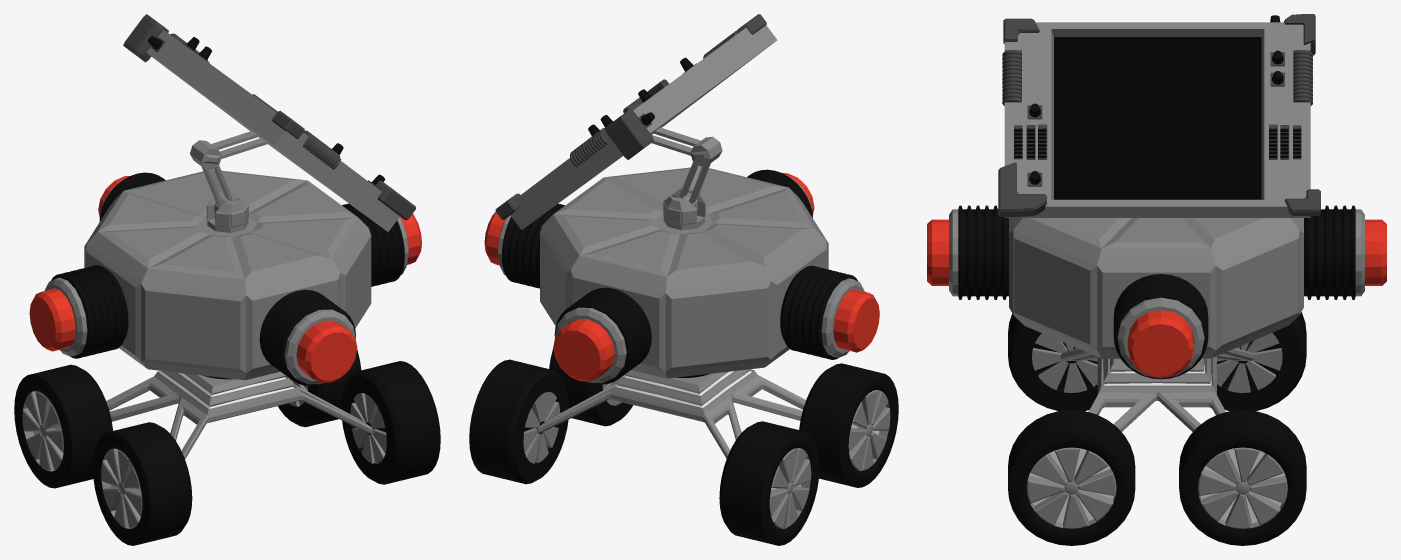
Rendered from Player V1 1.fbx.
3 renders of one model, left to right at view 1: azimuth 30°, elevation 25°; view 2: azimuth 150°, elevation 25°; view 3: azimuth 270°, elevation 25°, orthographic. The views are drawn at different scales.
Parts seen in each view (by area): view 1: Cylinder.007, pantalla unida.001, rueda.004, rueda.002, rueda.005, chasis, base boton.002, base boton.003, boton.003, base boton.001, boton.002, rueda.003 (+5 smaller); view 2: Cylinder.007, pantalla unida.001, rueda.005, rueda.003, rueda.004, chasis, base boton.002, base boton.004, boton.004, base boton.001, boton.002, rueda.002 (+5 smaller); view 3: pantalla unida.001, Cylinder.007, rueda.003, rueda.002, chasis, rueda.005, rueda.004, base boton.004, base boton.003, base boton.001, boton.001, boton.003 (+1 smaller).
Boxes of the visible parts, x1,y1,x2,y2 form: Cylinder.007: [84, 169, 371, 380]; pantalla unida.001: [123, 14, 415, 231]; rueda.004: [92, 422, 192, 545]; rueda.002: [341, 361, 440, 484]; rueda.005: [14, 364, 113, 488]; chasis: [106, 371, 373, 459]; base boton.002: [44, 265, 128, 358]; base boton.003: [259, 289, 355, 385]; boton.003: [296, 320, 357, 382]; base boton.001: [342, 203, 408, 286]; boton.002: [29, 288, 75, 351]; rueda.003: [278, 350, 361, 427]; Cylinder.007: [540, 166, 828, 378]; pantalla unida.001: [495, 14, 777, 229]; rueda.005: [719, 421, 819, 545]; rueda.003: [469, 359, 569, 484]; rueda.004: [799, 363, 898, 487]; chasis: [537, 369, 805, 458]; base boton.002: [780, 265, 864, 359]; base boton.004: [554, 287, 651, 384]; boton.004: [553, 319, 614, 381]; base boton.001: [498, 203, 564, 288]; boton.002: [833, 289, 879, 352]; rueda.002: [549, 348, 633, 426]; pantalla unida.001: [998, 14, 1320, 217]; Cylinder.007: [1009, 218, 1303, 358]; rueda.003: [1179, 410, 1306, 545]; rueda.002: [1008, 410, 1135, 545]; chasis: [1060, 348, 1253, 431]; rueda.005: [1217, 312, 1306, 410]; rueda.004: [1008, 313, 1097, 410]; base boton.004: [1304, 205, 1364, 299]; base boton.003: [949, 205, 1008, 299]; base boton.001: [1113, 274, 1208, 379]; boton.001: [1127, 310, 1194, 377]; boton.003: [927, 219, 948, 285].
Size of the model in its own units: 1061 by 1143 by 1058.
